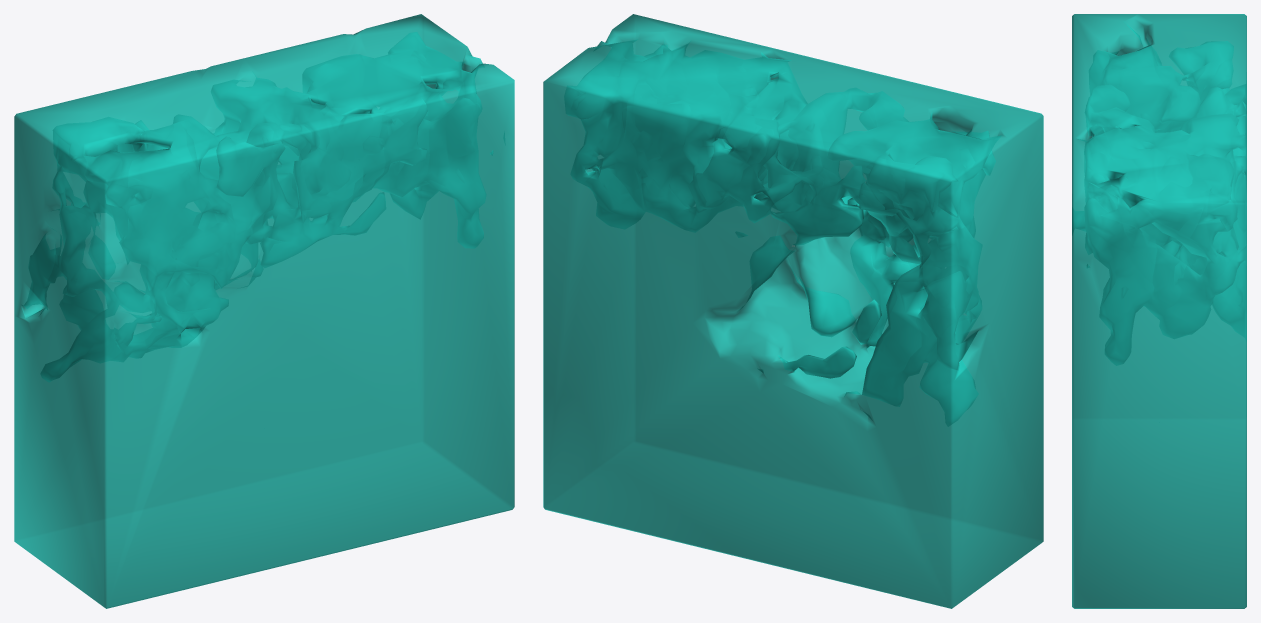
3 renders of one model, left to right at view 1: azimuth 30°, elevation 25°; view 2: azimuth 150°, elevation 25°; view 3: azimuth 270°, elevation 25°, orthographic. The views are drawn at different scales.
Visible parts, largest first — view 1: Liquid_Domain; view 2: Liquid_Domain; view 3: Liquid_Domain.
Part boxes in pixels (x1,y1,x2,y2): Liquid_Domain: [14, 14, 514, 608]; Liquid_Domain: [543, 14, 1043, 608]; Liquid_Domain: [1072, 14, 1246, 608].
Bounding box in the file's own units: 1966 × 1965 × 765.
